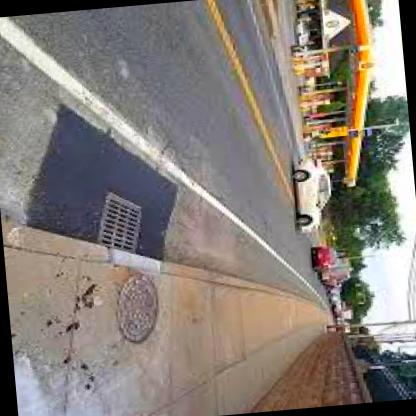manholes: (92, 264, 176, 352)
